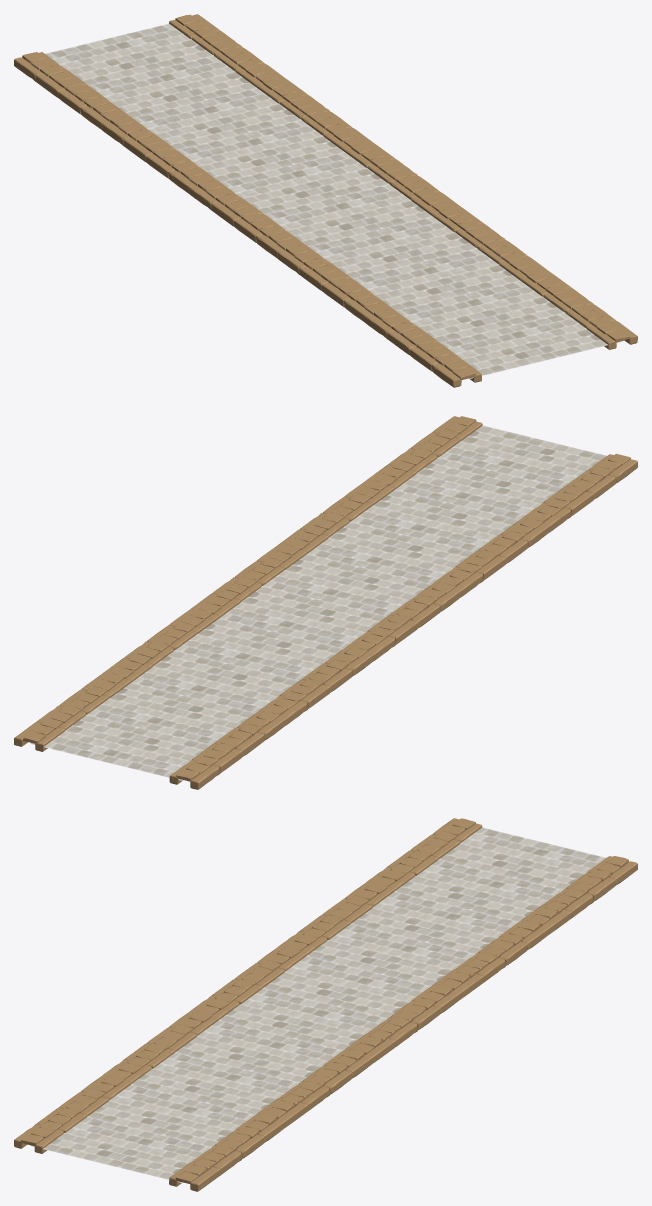
File: SM_street_02.fbx
3 renders of one model, top to bottom at view 1: azimuth 30°, elevation 25°; view 2: azimuth 150°, elevation 25°; view 3: azimuth 330°, elevation 25°, orthographic.
Visible parts, largest first — view 1: Object33208; view 2: Object33208; view 3: Object33208.
Boxes of the visible parts, bbox=[...] form: Object33208: bbox=[14, 14, 637, 387]; Object33208: bbox=[14, 416, 637, 789]; Object33208: bbox=[14, 818, 637, 1191].
Bounding box in the file's own units: 249 × 12.33 × 1027.
